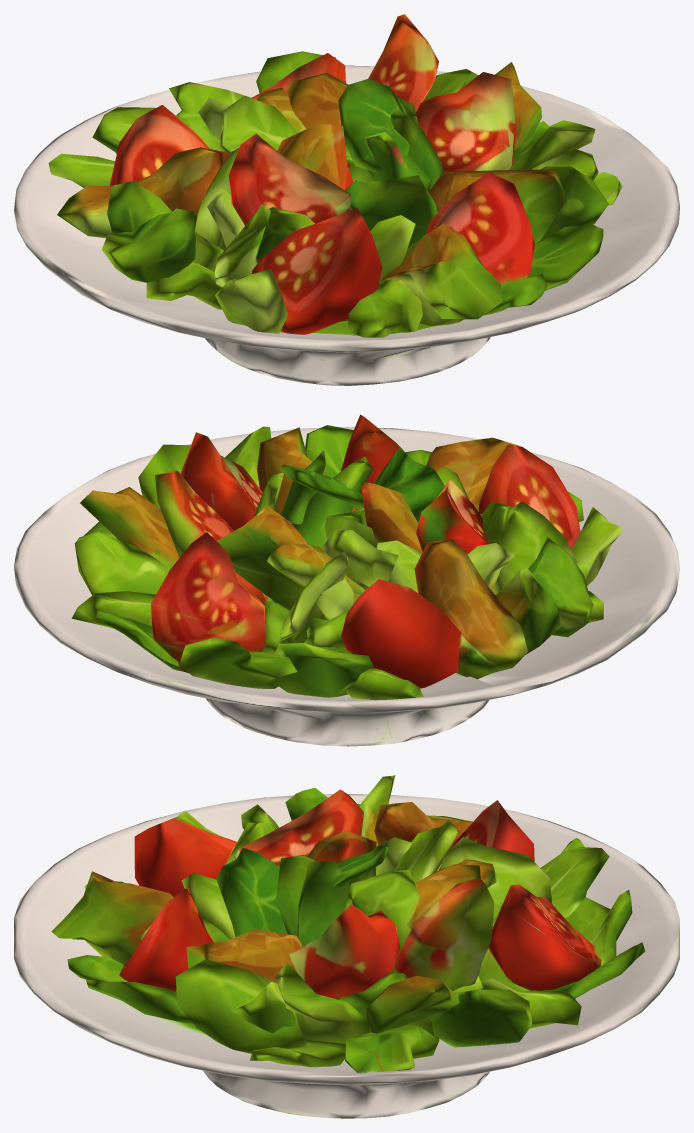
File: b8166aab-e830-4699-abe1-af6d068f8918.glb
The picture shows the model from 3 angles, top to bottom: view 1: azimuth 30°, elevation 25°; view 2: azimuth 150°, elevation 25°; view 3: azimuth 270°, elevation 25°; orthographic projection.
Parts seen in each view (by area): view 1: Mesh_0.001; view 2: Mesh_0.001; view 3: Mesh_0.001.
Boxes of the visible parts, left/top/right/bottom form: Mesh_0.001: left=14, top=14, right=679, bottom=385; Mesh_0.001: left=14, top=414, right=679, bottom=746; Mesh_0.001: left=14, top=775, right=679, bottom=1118.
Bounding box in the file's own units: 0.2557 × 0.1 × 0.2557.
Materials: 1 (1 with a texture image).
